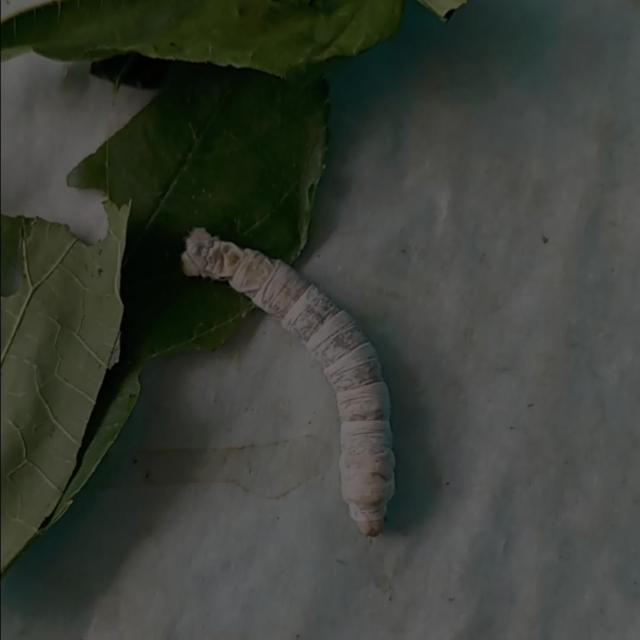Grasserie: (156, 193, 430, 566)
